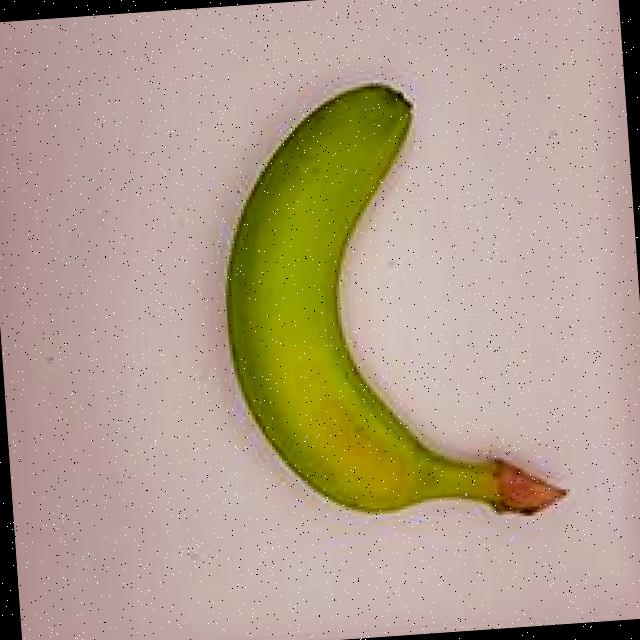Unripe: (192, 45, 577, 554)
